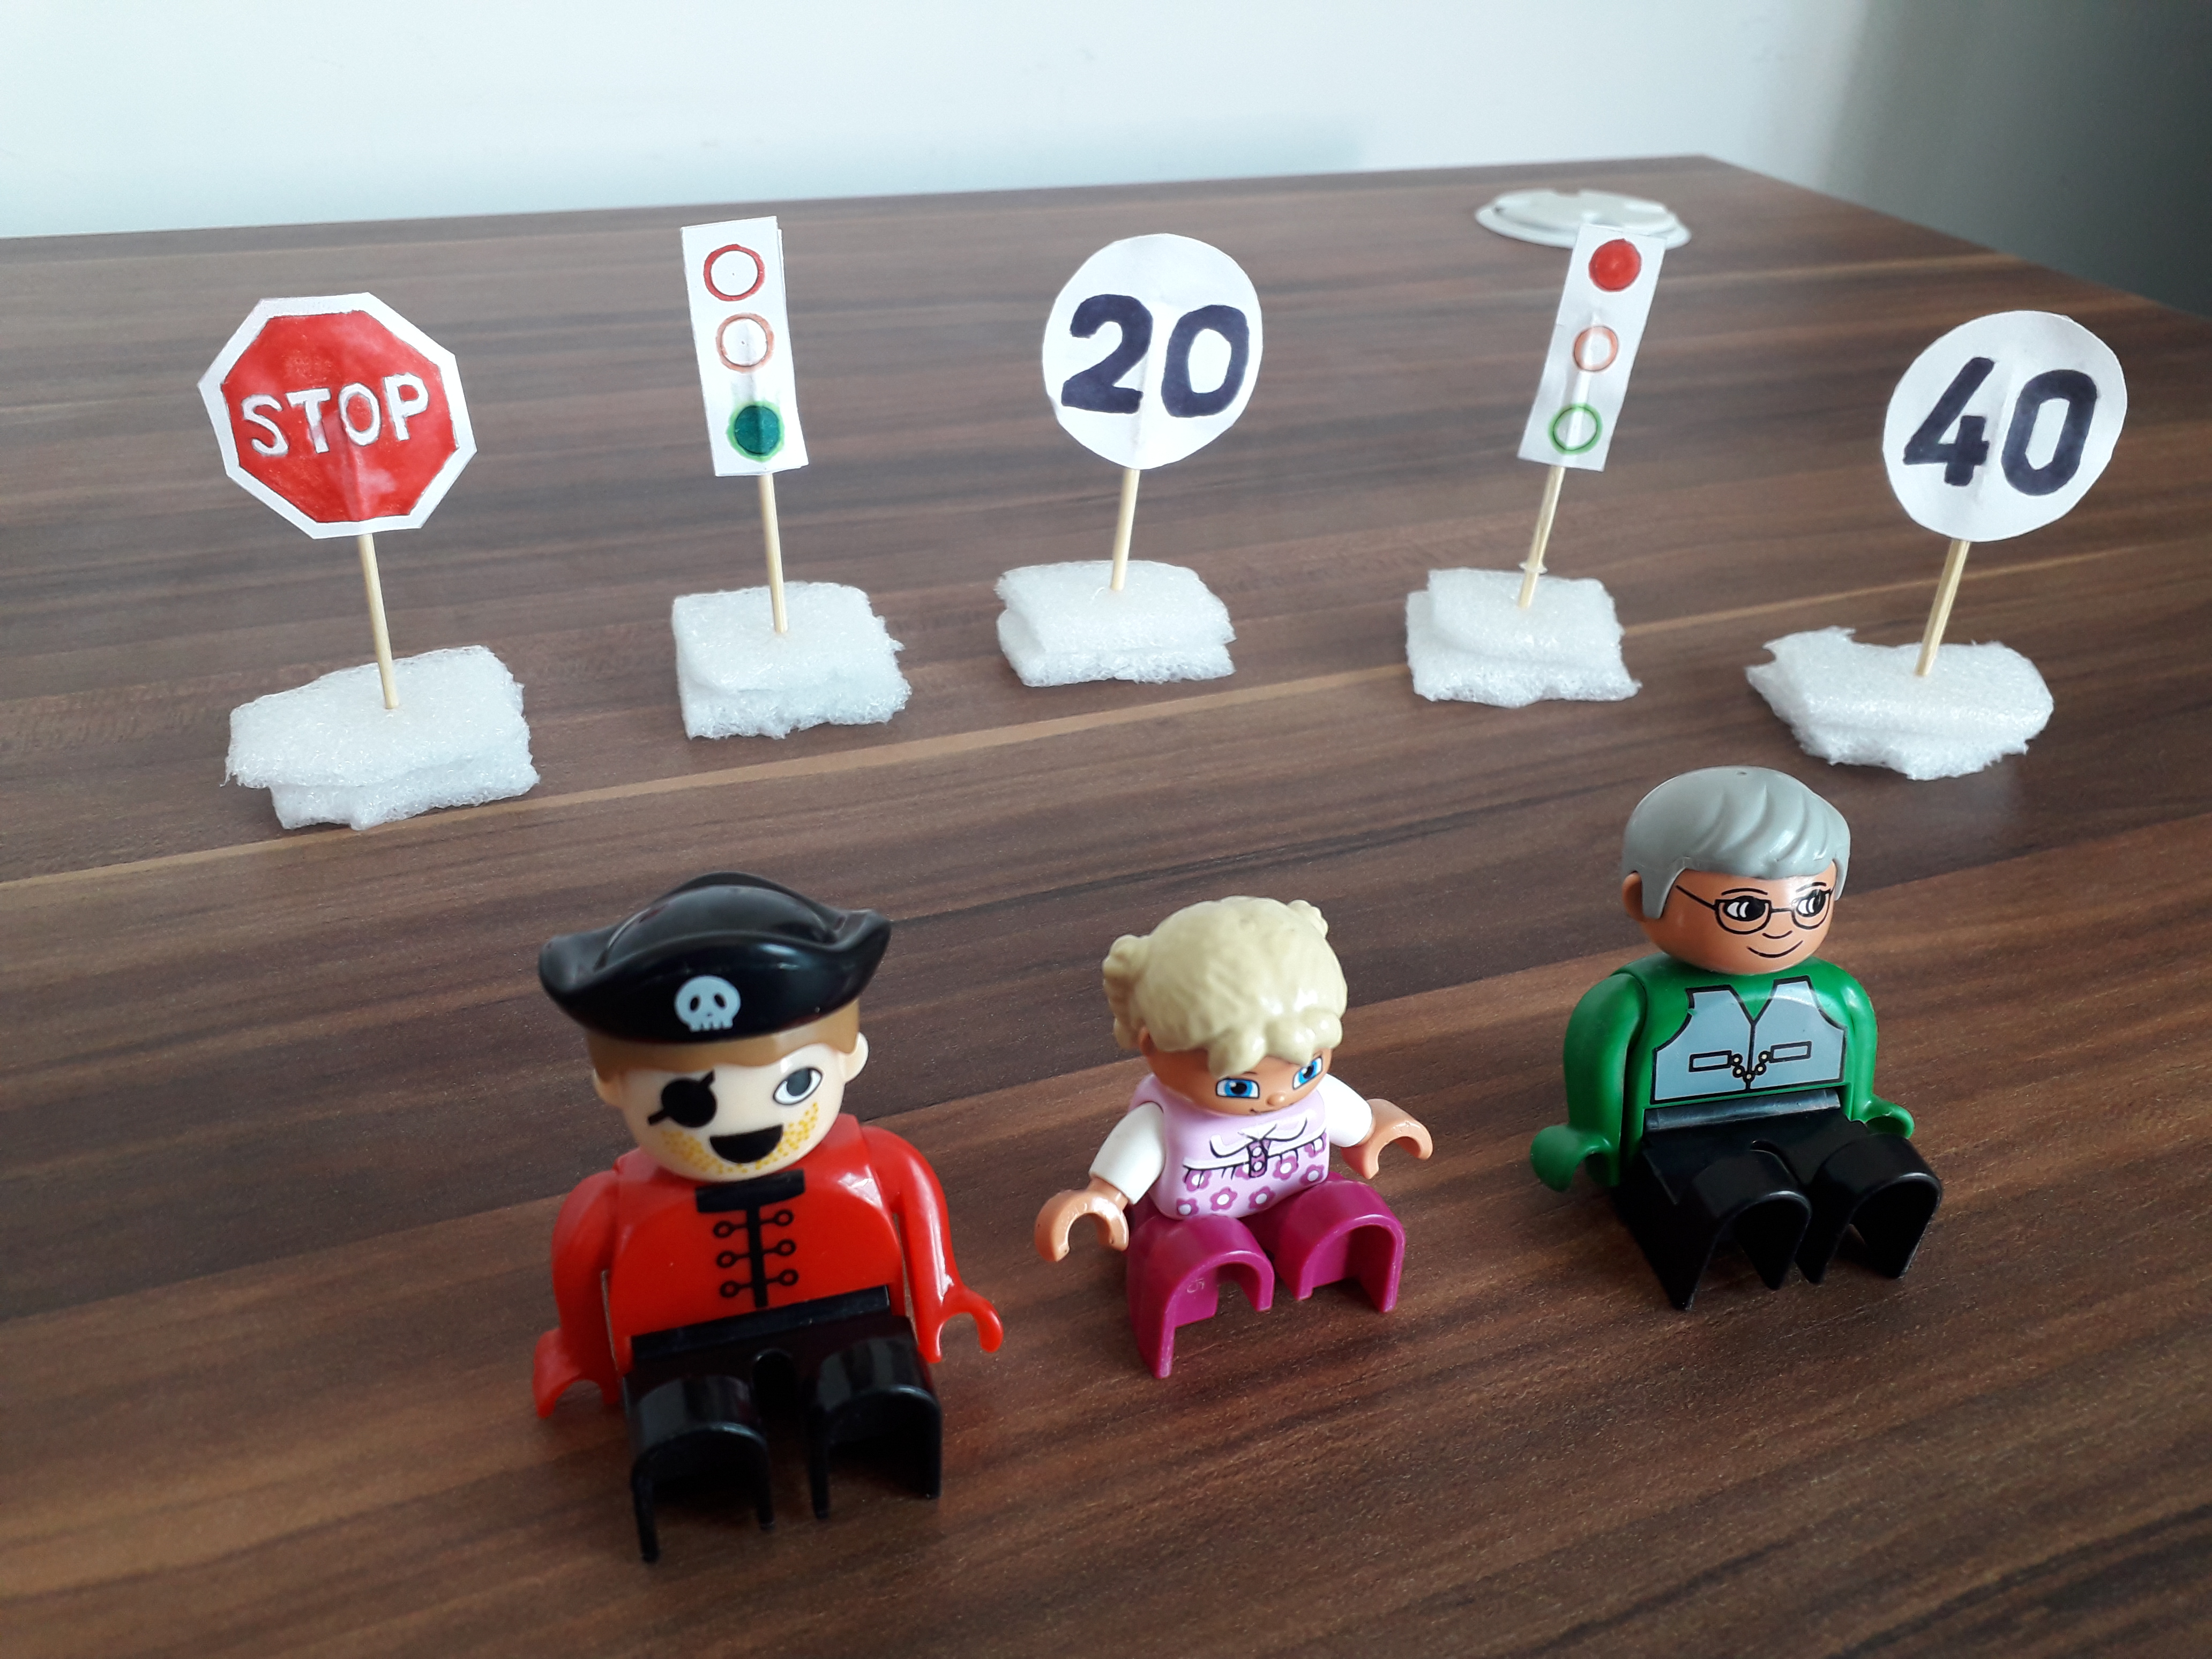20_sign: (1033, 235, 1262, 472)
40_sign: (1880, 311, 2123, 541)
green_light: (671, 214, 821, 480)
person: (530, 872, 1005, 1574), (1536, 765, 1949, 1324), (1036, 893, 1436, 1391)
red_light: (1518, 212, 1676, 484)
stop_sign: (191, 280, 482, 543)
